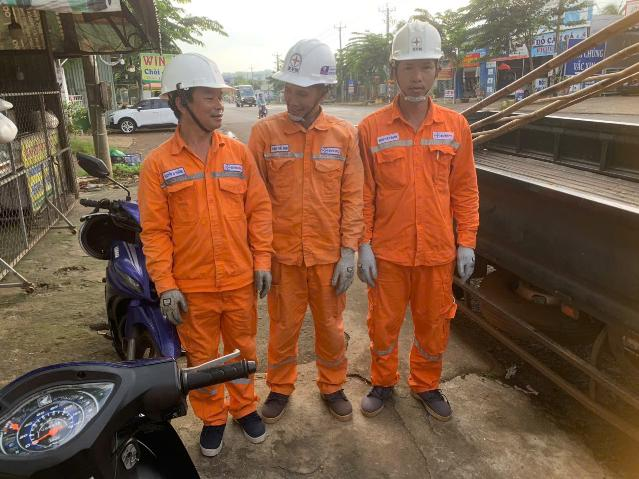gloves: (149, 281, 200, 333), (351, 235, 383, 292), (324, 243, 364, 286), (248, 266, 288, 300), (452, 243, 485, 281)
helmet: (150, 29, 248, 101), (261, 37, 355, 98), (388, 11, 457, 64)
shoes: (309, 377, 365, 423), (404, 379, 459, 425), (192, 414, 234, 468), (359, 372, 402, 414), (249, 383, 294, 423), (233, 403, 279, 440)
